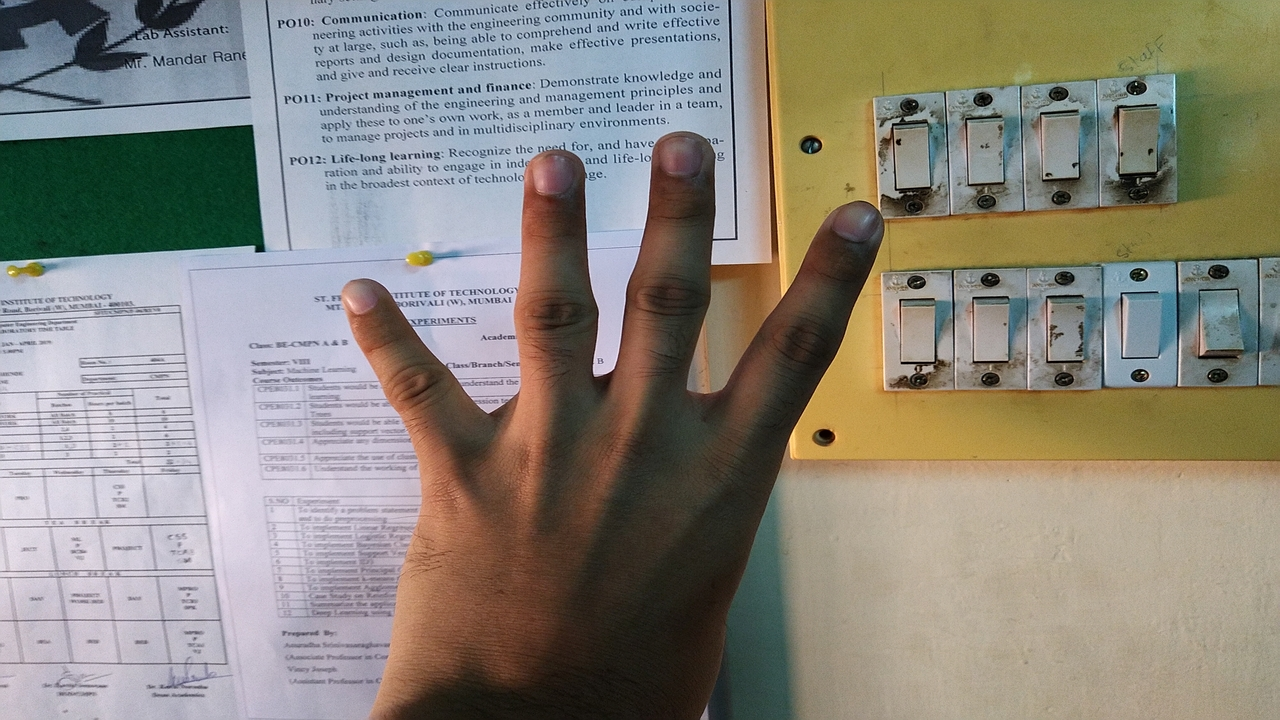fingertip: (640, 134, 712, 196), (516, 148, 586, 206), (834, 194, 894, 254), (328, 274, 386, 328)
